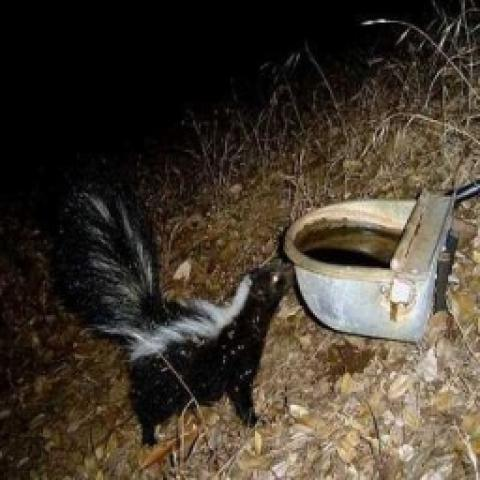small_animal: (49, 182, 295, 444)
